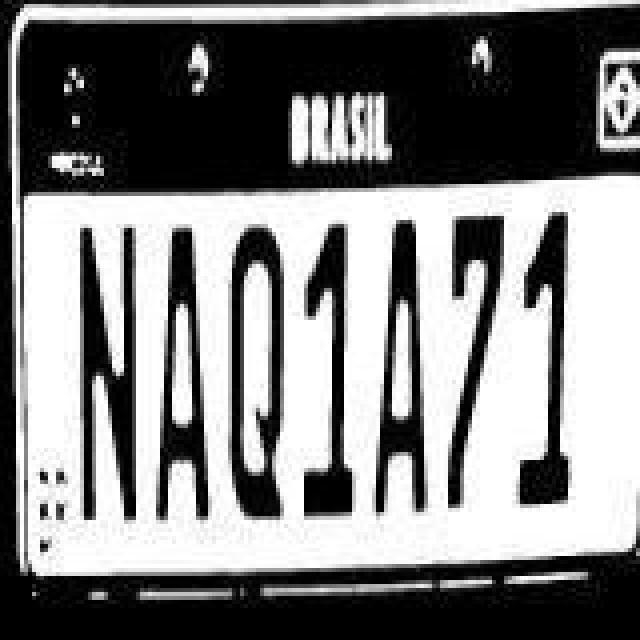1: (512, 222, 584, 506), (304, 222, 368, 518)
7: (440, 218, 512, 506)
A: (152, 224, 224, 524), (372, 222, 436, 518)
N: (76, 220, 148, 524)
Q: (222, 228, 290, 528)
